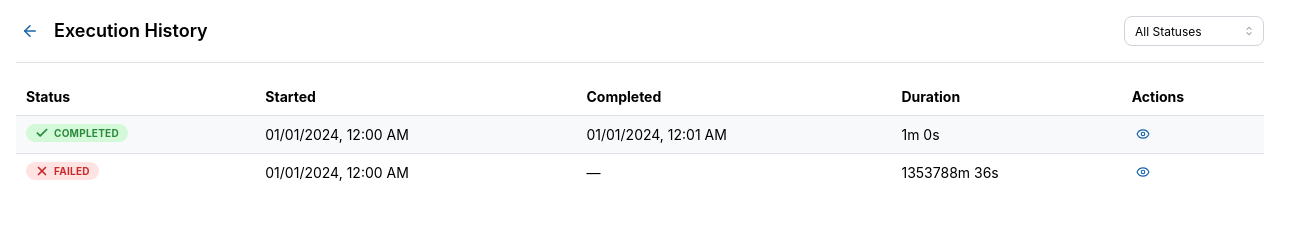
Test: ExecutionHistoryPage › renders execution list and filters by status (server-side)
The image size is (1292, 241).
Click the dropdown at (1194, 31), box [1124,16,1264,46]
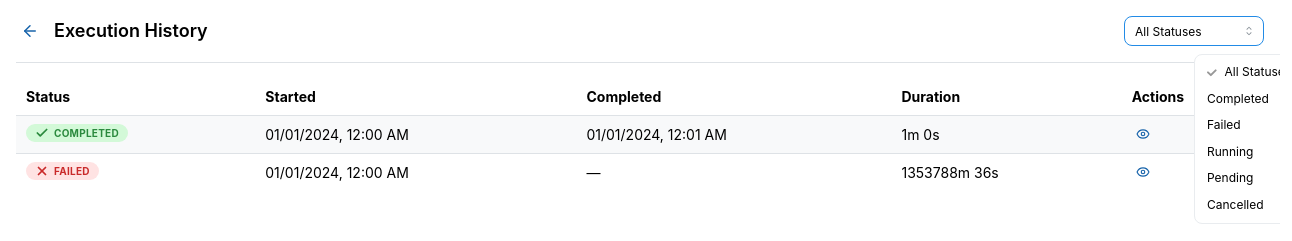
Expected: the option "Completed" is shown
Click the option "Completed" at (1238, 98), box [1207,91,1269,106]
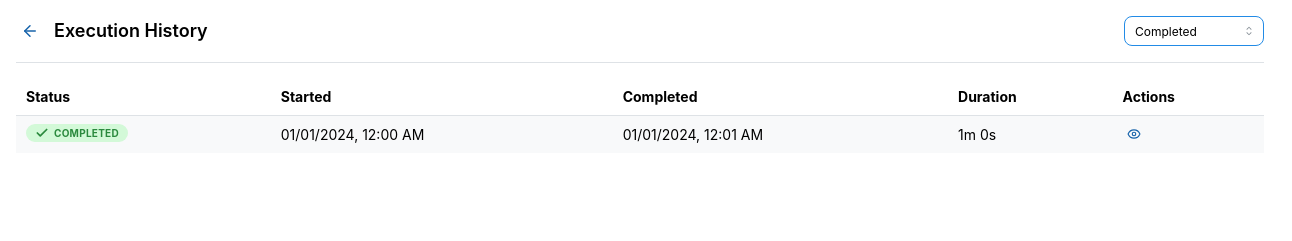
Expected: the number of rows is 2, [16,79,1264,115]; [16,115,1264,153]
